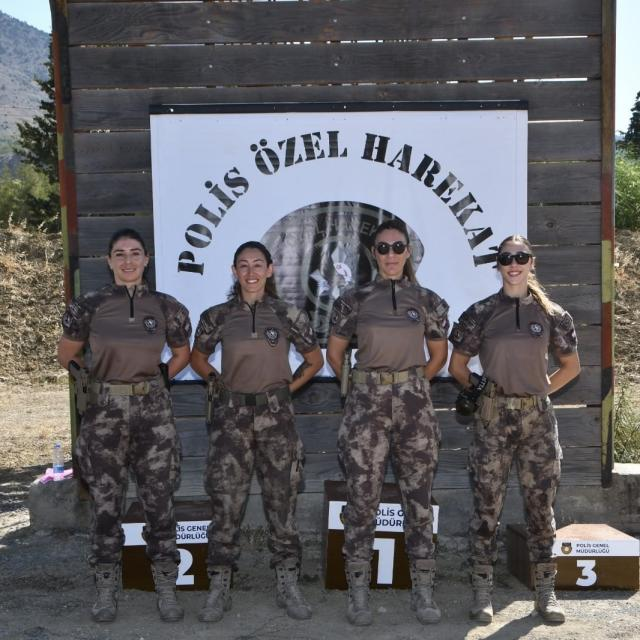poh_personel: (58, 227, 191, 621), (450, 234, 580, 624), (192, 241, 324, 620), (328, 220, 448, 624)
